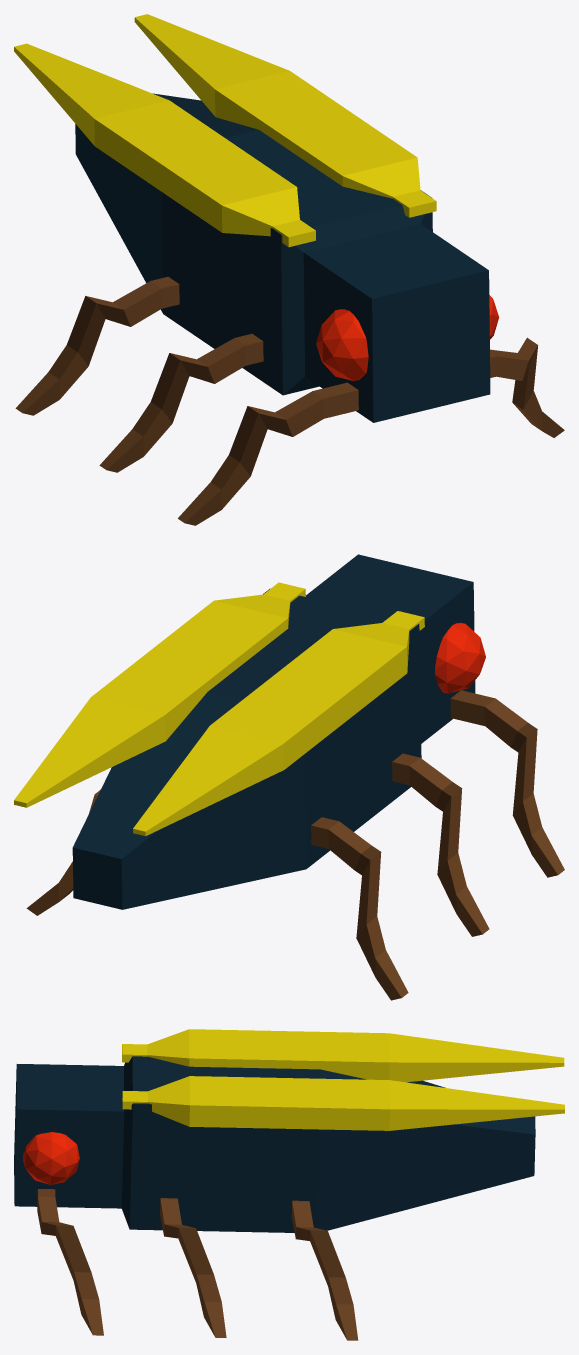
File: cicada.fbx
3 renders of one model, top to bottom at view 1: azimuth 30°, elevation 25°; view 2: azimuth 150°, elevation 25°; view 3: azimuth 270°, elevation 25°, orthographic. The views are drawn at different scales.
Parts seen in each view (by area): view 1: Body, Wings, Leg2, Leg1, Leg3, RightEye, Leg4; view 2: Body, Wings, Leg2, Leg1, Leg3, RightEye, Leg6; view 3: Body, Wings, Leg4, Leg6, Leg5, LeftEye.
Boxes of the visible parts, x1,y1,x2,y2 form: Body: (75, 93, 490, 422); Wings: (14, 14, 436, 247); Leg2: (178, 382, 358, 525); Leg1: (99, 334, 263, 472); Leg3: (15, 276, 179, 415); RightEye: (316, 309, 368, 381); Leg4: (490, 337, 564, 437); Body: (72, 554, 475, 909); Wings: (14, 582, 424, 836); Leg2: (450, 690, 564, 877); Leg1: (392, 753, 489, 936); Leg3: (311, 817, 408, 1000); RightEye: (435, 622, 485, 693); Leg6: (26, 789, 100, 915); Body: (14, 1056, 535, 1232); Wings: (122, 1029, 564, 1130); Leg4: (37, 1189, 103, 1335); Leg6: (291, 1200, 358, 1340); Leg5: (160, 1198, 226, 1337); LeftEye: (23, 1132, 79, 1184).
Bounding box in the file's own units: 278 × 182 × 438.
